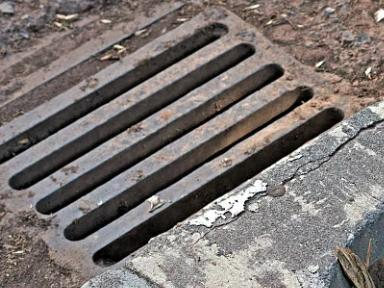wellcover: (1, 36, 351, 268)
